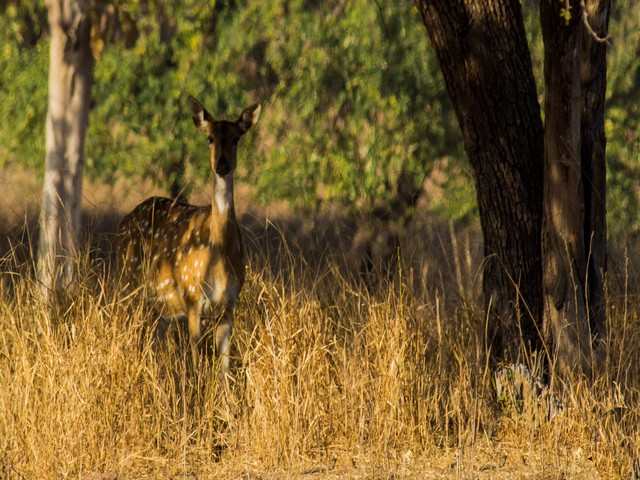deer: (99, 91, 262, 382)
